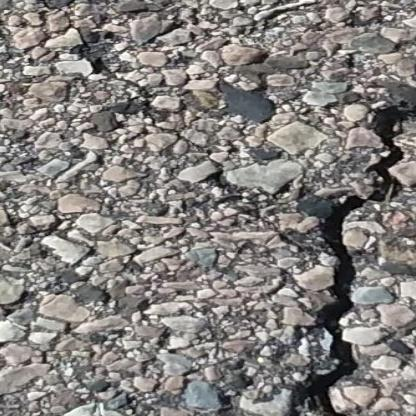Cracks: (284, 50, 416, 416)
